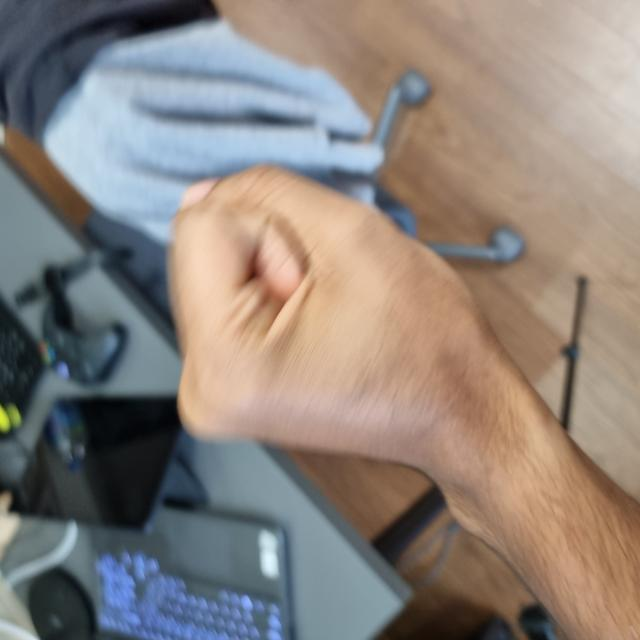Rock: (174, 168, 639, 564)
